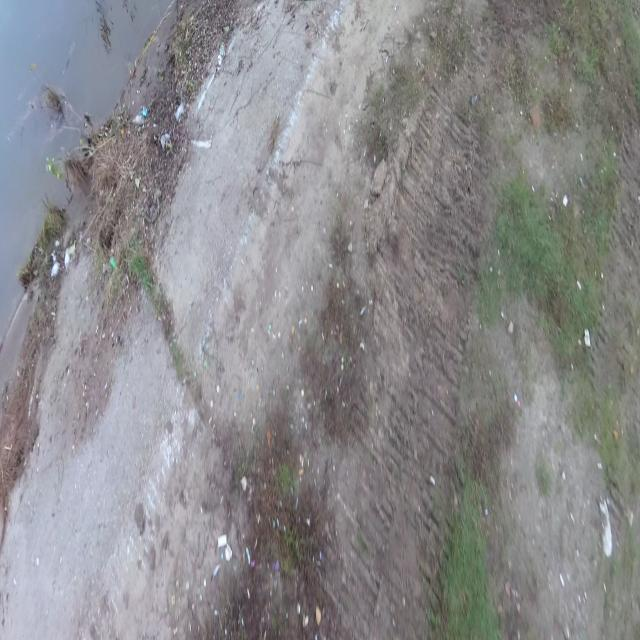rubbish: (597, 500, 613, 560), (174, 97, 186, 123), (132, 112, 146, 124), (65, 249, 70, 276)
